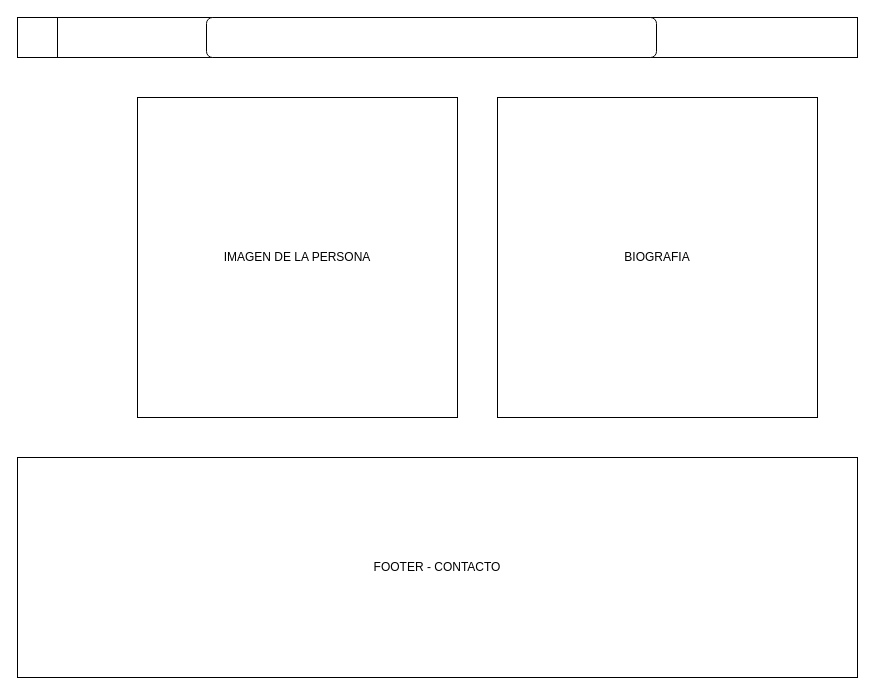
Some shapes in this 875 by 695 pixel diagram are drawn without their labels. The centre of each missing label's shape, as x and y in pixels:
"IMAGE" goes at point 37,37.
"menu items" goes at point 431,37.
